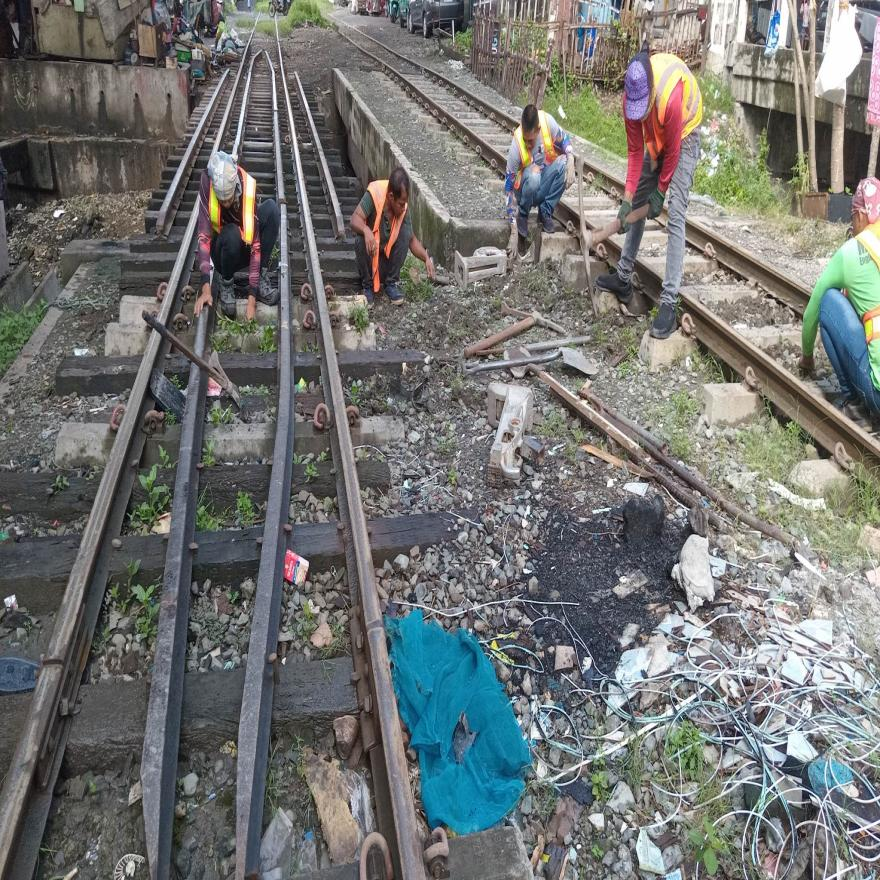railway-gap: (350, 588, 397, 662), (36, 632, 72, 691)
